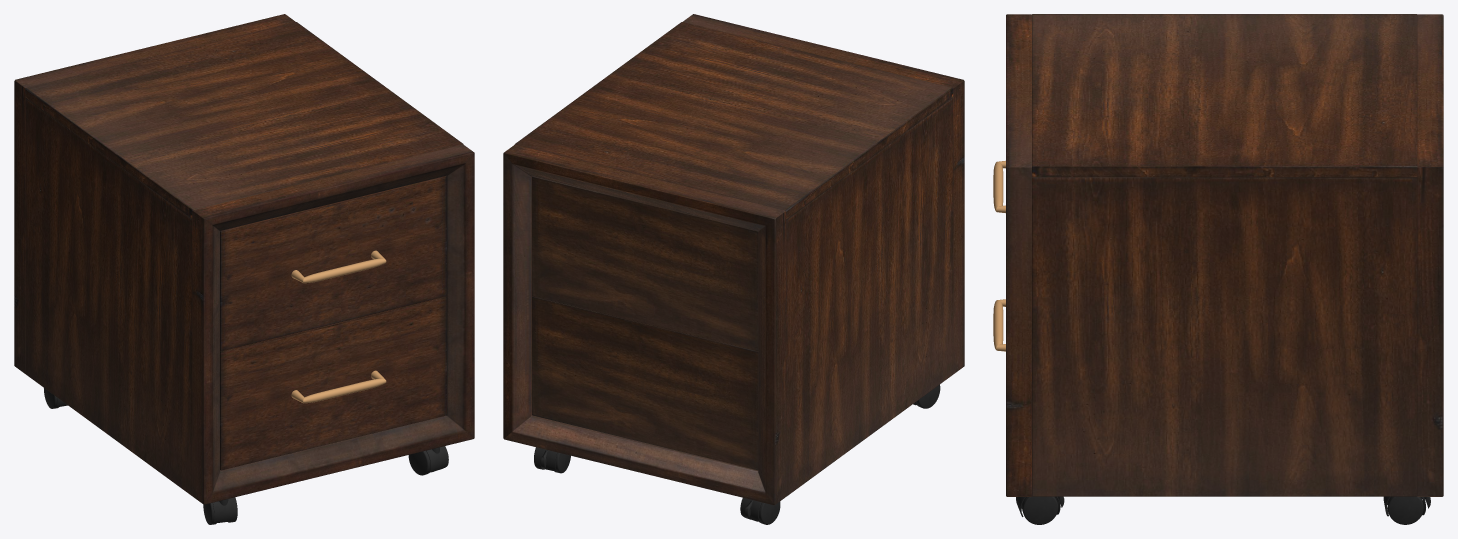
The model's file is appliance_B07B7JY9C5.glb.
3 views of the same model, side by side, from view 1: azimuth 30°, elevation 25°; view 2: azimuth 150°, elevation 25°; view 3: azimuth 270°, elevation 25° (orthographic). The views are drawn at different scales.
Visible parts, largest first — view 1: RootNode; view 2: RootNode; view 3: RootNode.
Part boxes in pixels (<box>): RootNode: <box>14,14,474,524</box>; RootNode: <box>503,14,964,524</box>; RootNode: <box>993,14,1443,524</box>.
Size of the model in its own units: 0.4019 by 0.4551 by 0.5004.
1 material, 1 textured.
